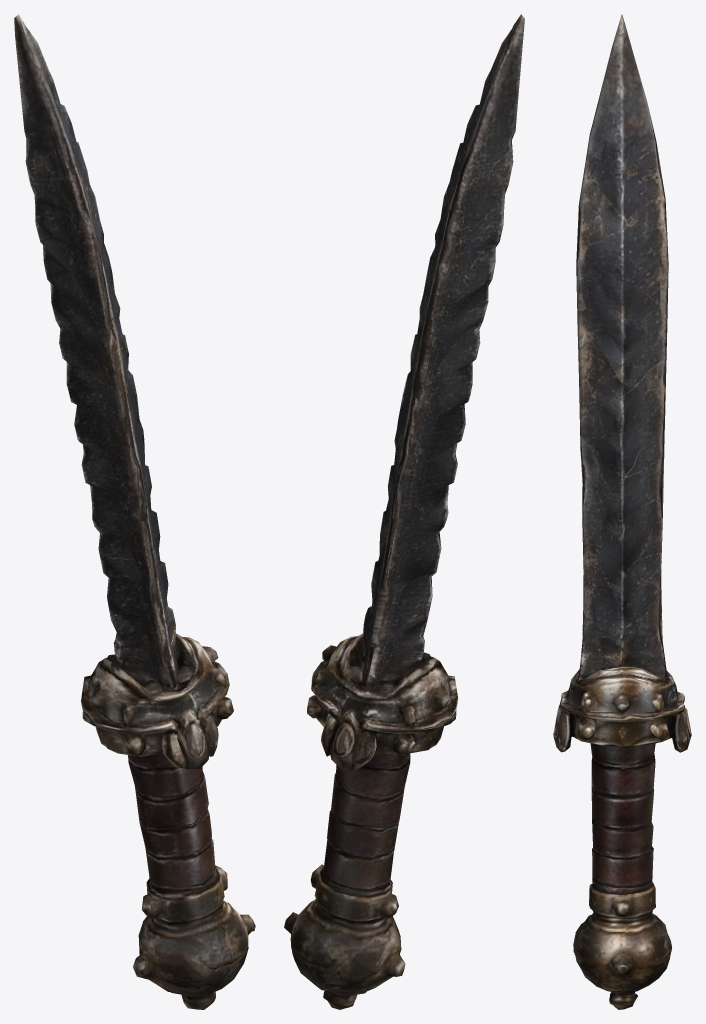
File: sword.glb
3 views of the same model, side by side, from view 1: azimuth 30°, elevation 25°; view 2: azimuth 150°, elevation 25°; view 3: azimuth 270°, elevation 25° (orthographic). The views are drawn at different scales.
Parts seen in each view (by area): view 1: tripo_node_969a2b4f-69bd-4b86-954a-2a52828e36b4; view 2: tripo_node_969a2b4f-69bd-4b86-954a-2a52828e36b4; view 3: tripo_node_969a2b4f-69bd-4b86-954a-2a52828e36b4.
Part boxes in pixels (left/top/right/bottom): tripo_node_969a2b4f-69bd-4b86-954a-2a52828e36b4: left=14, top=14, right=255, bottom=1009; tripo_node_969a2b4f-69bd-4b86-954a-2a52828e36b4: left=284, top=14, right=524, bottom=1009; tripo_node_969a2b4f-69bd-4b86-954a-2a52828e36b4: left=553, top=14, right=691, bottom=1009.
Size of the model in its own units: 0.2373 by 0.9853 by 0.1348.
Materials: 1 (1 with a texture image).
